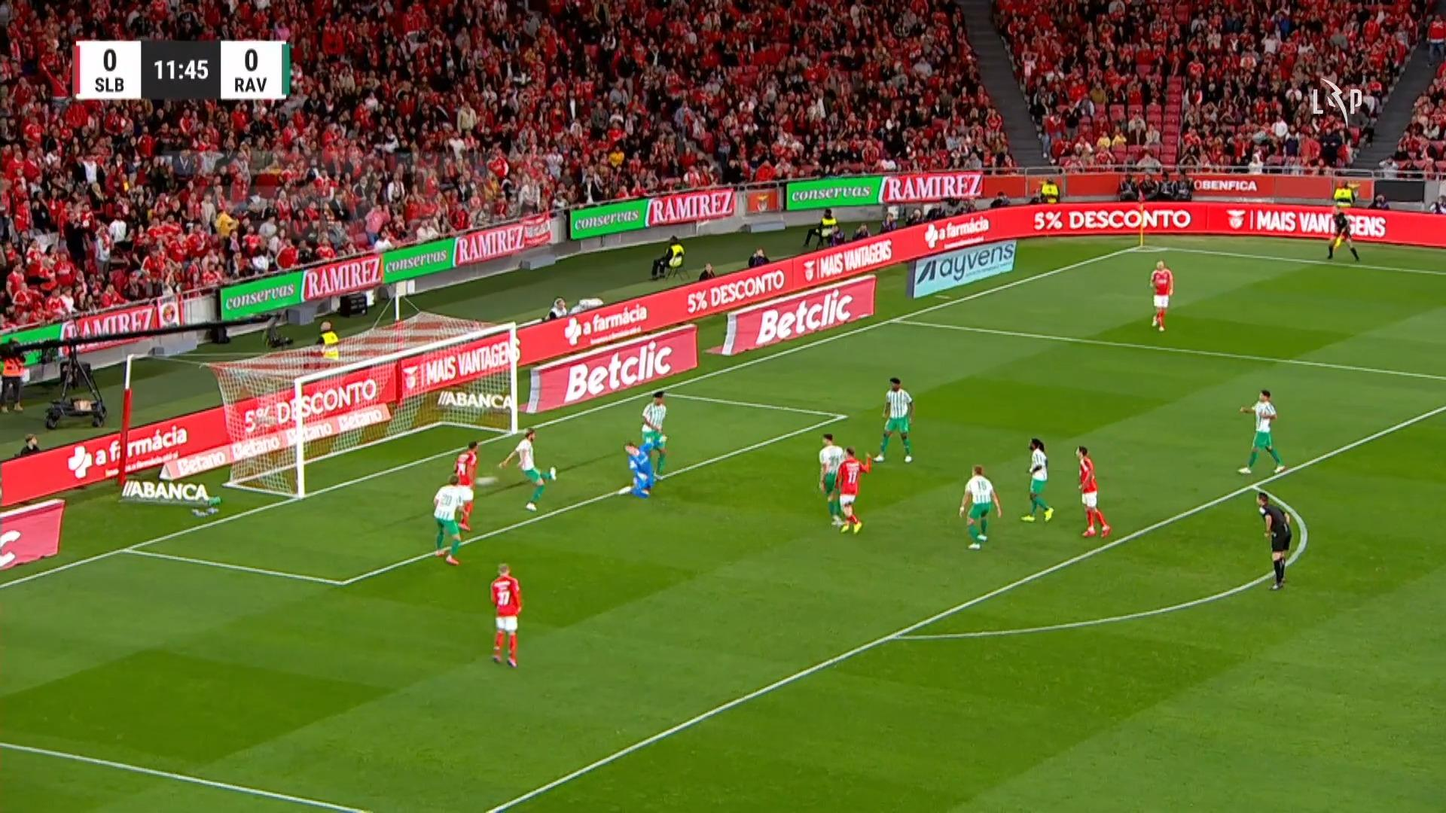ball: (475, 474, 500, 487)
goalkeeper: (619, 442, 655, 500)
player: (496, 426, 559, 511), (1237, 388, 1288, 478), (428, 474, 475, 569), (958, 462, 1003, 551), (873, 376, 916, 465), (1075, 442, 1115, 537), (489, 563, 523, 672), (1022, 435, 1056, 524), (837, 451, 873, 535), (640, 393, 673, 479), (817, 430, 845, 526), (448, 441, 476, 532), (1148, 259, 1177, 333)
referee: (1252, 489, 1292, 592), (1323, 204, 1363, 263)
